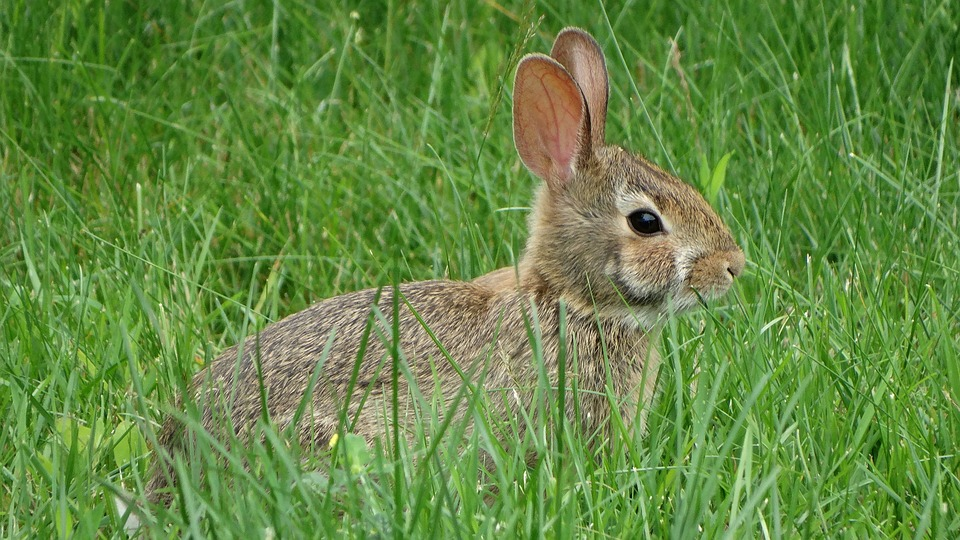bunny: (170, 24, 770, 476)
